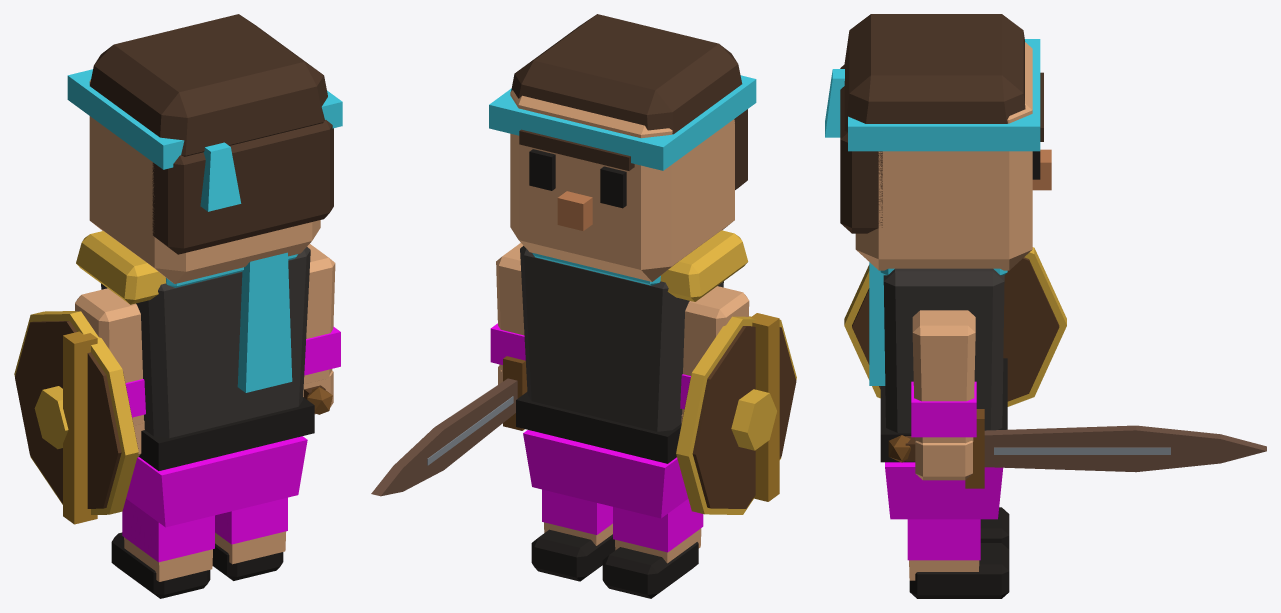
The model's file is CH_Nobody_Unbowed.fbx.
3 views of the same model, side by side, from view 1: azimuth 30°, elevation 25°; view 2: azimuth 150°, elevation 25°; view 3: azimuth 270°, elevation 25° (orthographic). The views are drawn at different scales.
Visible parts, largest first — view 1: Hair, Body, HairBack, Head, Loincloth, Shield, ScarfTail, Belt, ShieldPlank, ShieldRim, Headband, Pauldron (+13 smaller); view 2: Body, Head, Hair, Shield, Loincloth, Headband, Blade, Belt, ShieldRim, ShieldPlank, Pauldron, FootL (+17 smaller); view 3: Head, Hair, Body, Blade, Headband, Shield, ArmR, Loincloth, HairBack, FootR, ShinR, WrapR (+10 smaller).
Part boxes in pixels (box(x1,y1,x2,y2)): Hair: box(90, 14, 327, 156); Body: box(101, 247, 310, 438); HairBack: box(152, 120, 333, 254); Head: box(89, 79, 320, 283); Loincloth: box(126, 436, 307, 527); Shield: box(15, 321, 138, 508); ScarfTail: box(237, 252, 292, 392); Belt: box(139, 397, 314, 470); ShieldPlank: box(63, 331, 97, 524); ShieldRim: box(14, 311, 138, 514); Headband: box(67, 69, 342, 169); Pauldron: box(76, 231, 165, 304); Body: box(520, 245, 723, 431); Head: box(510, 90, 734, 281); Hair: box(511, 14, 742, 134); Shield: box(677, 326, 796, 508); Loincloth: box(523, 430, 688, 518); Headband: box(489, 75, 756, 170); Blade: box(371, 378, 517, 496); Belt: box(516, 392, 681, 463); ShieldRim: box(676, 316, 796, 514); ShieldPlank: box(750, 313, 779, 501); Pauldron: box(660, 230, 748, 301); FootL: box(602, 542, 698, 598); Head: box(855, 42, 1032, 270); Hair: box(844, 14, 1025, 132); Body: box(883, 268, 1004, 432); Blade: box(984, 425, 1266, 472); Headband: box(848, 39, 1040, 151); Shield: box(852, 257, 1059, 401); ArmR: box(912, 310, 975, 443); Loincloth: box(885, 462, 1003, 519); HairBack: box(840, 64, 882, 233); FootR: box(909, 543, 1009, 598); ShinR: box(907, 519, 980, 560); WrapR: box(911, 381, 976, 437).
Bounding box in the file's own units: 0.81 × 1.15 × 1.51.
